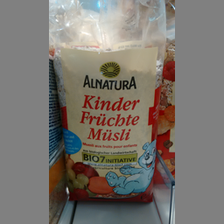cereal: (50, 29, 163, 205)
